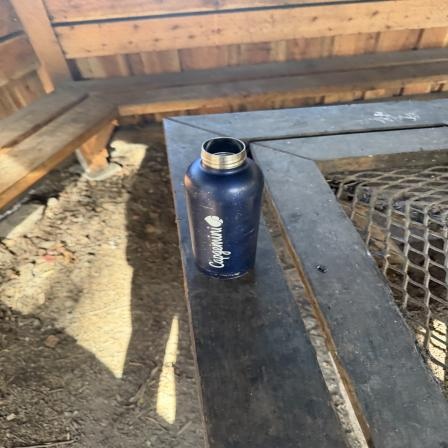blue_bottle: (188, 134, 264, 277)
